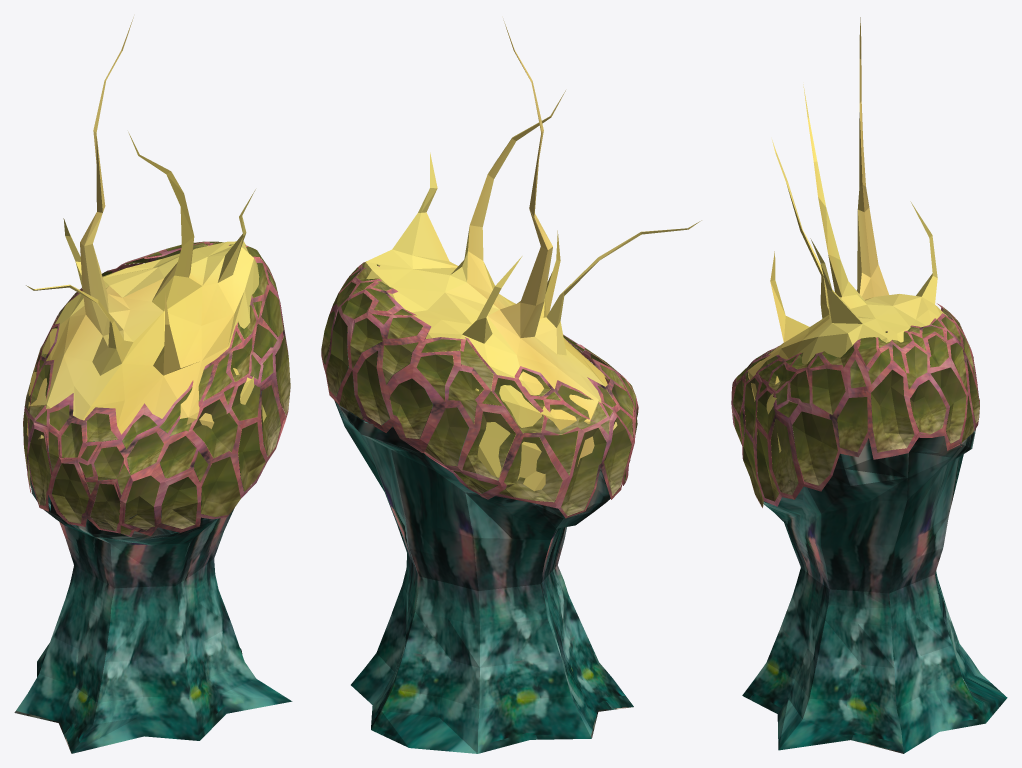
Rendered from Fungi_1.gltf.
The picture shows the model from 3 angles, left to right: view 1: azimuth 30°, elevation 25°; view 2: azimuth 150°, elevation 25°; view 3: azimuth 270°, elevation 25°; orthographic projection.
Parts seen in each view (by area): view 1: Fungi_1; view 2: Fungi_1; view 3: Fungi_1.
Boxes of the visible parts, left/top/right/bottom form: Fungi_1: left=14, top=17, right=292, bottom=753; Fungi_1: left=321, top=20, right=701, bottom=753; Fungi_1: left=731, top=17, right=1007, bottom=753.
Bounding box in the file's own units: 8.68 × 18.49 × 6.75.
Materials: 4 (4 with a texture image).
